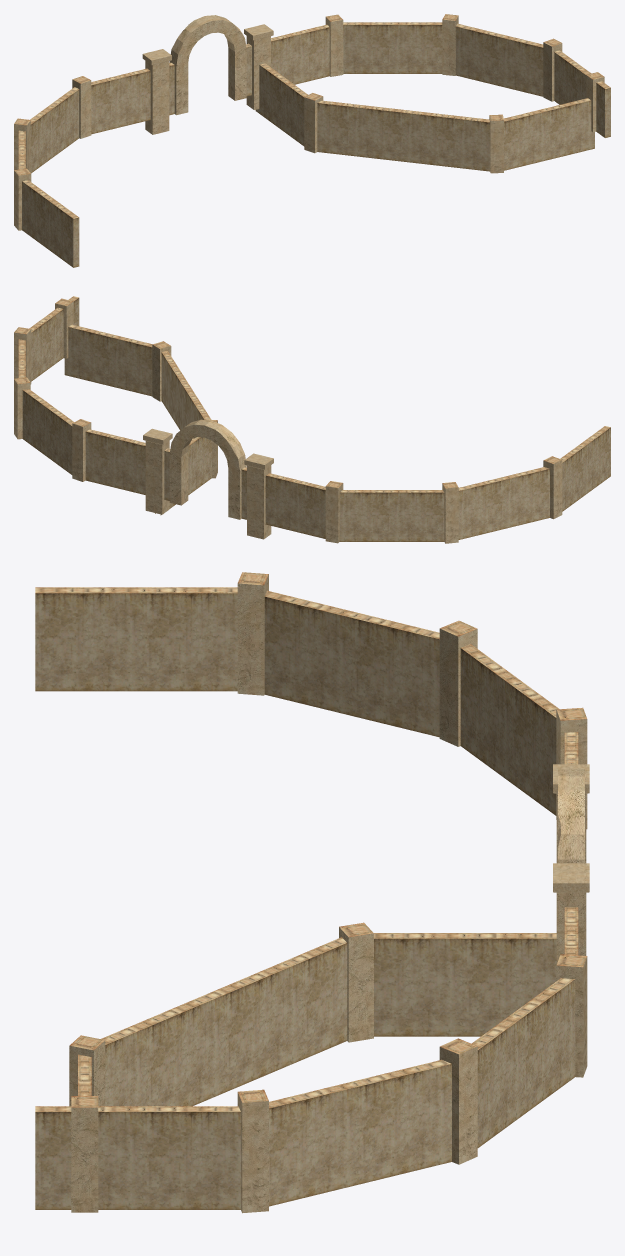
File: poi_tato_corral_half_64x64_s02_l0.fbx
The picture shows the model from 3 angles, top to bottom: view 1: azimuth 30°, elevation 25°; view 2: azimuth 150°, elevation 25°; view 3: azimuth 270°, elevation 25°; orthographic projection. The views are drawn at different scales.
Parts seen in each view (by area): view 1: mesh_node; view 2: mesh_node; view 3: mesh_node.
Part boxes in pixels (x1,y1,x2,y2): mesh_node: [14, 14, 610, 267]; mesh_node: [14, 296, 610, 543]; mesh_node: [35, 572, 589, 1213].
Bounding box in the file's own units: 46.43 × 8.5 × 20.48.
